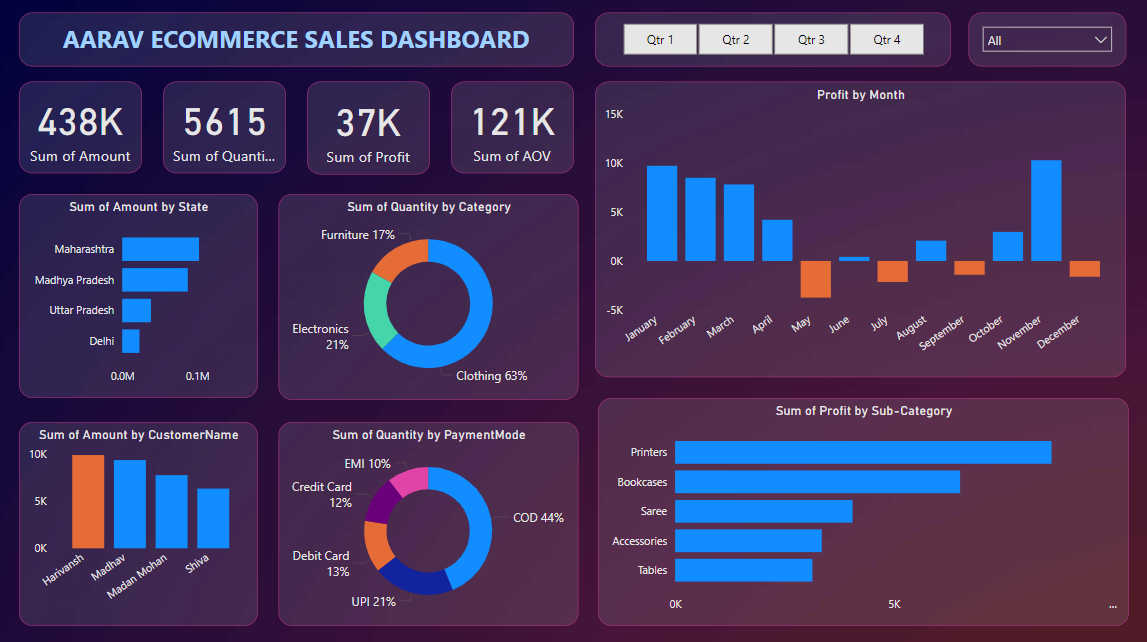

The page's visual inventory and layout, read from the dashboard file:
{"tool":"powerbi","page":{"name":"Page 1","canvas":[1280,720],"ordinal":0},"visuals":[{"type":"textbox","box":[23.3,15,616.7,60],"z":0},{"type":"columnChart","title":"Profit by Month","fields":{"Y":["Details.Profit"],"Category":["Orders.Order Date.Variation.Date Hierarchy.Month"]},"box":[663.3,91.7,590,328.3],"z":1000},{"type":"barChart","fields":{"Category":["Details.Sub-Category"],"Y":["Details.Profit"]},"box":[666.7,443.3,590,253.3],"z":2000},{"type":"donutChart","fields":{"Category":["Details.Category"],"Y":["Details.Quantity"]},"box":[311.7,216.7,333.3,228.3],"z":3000},{"type":"donutChart","fields":{"Y":["Details.Quantity"],"Category":["Details.PaymentMode"]},"box":[311.7,470,333.3,226.7],"z":4000},{"type":"card","fields":{"Values":["Details.Amount"]},"box":[23.3,91.7,136.7,101.7],"z":5000},{"type":"card","fields":{"Values":["Details.Profit"]},"box":[343.3,91.7,136.7,103.3],"z":6000},{"type":"card","fields":{"Values":["Details.Quantity"]},"box":[183.3,91.7,136.7,101.7],"z":7000},{"type":"card","fields":{"Values":["Details.AOV"]},"box":[503.3,91.7,136.7,101.7],"z":8000},{"type":"barChart","fields":{"Category":["Orders.State"],"Y":["Details.Amount"]},"box":[23.3,216.7,265,226.7],"z":9000},{"type":"columnChart","fields":{"Category":["Orders.CustomerName"],"Y":["Details.Amount"]},"box":[23.3,470,265,226.7],"z":10000},{"type":"slicer","fields":{"Values":["Orders.Order Date.Variation.Date Hierarchy.Quarter"]},"box":[663.3,15,395,60],"z":10001},{"type":"slicer","fields":{"Values":["Orders.State"]},"box":[1078.3,15,175,60],"z":10002}]}

Visuals, with their boxes in screenshot pixels (x1, y1, x2, y2), scaled from the page's 1280x720 canvas onto the 1147x642 screenshot:
textbox: rect(21, 13, 574, 67)
"Profit by Month" columnChart: rect(594, 82, 1123, 374)
barChart - Details.Sub-Category x Details.Profit: rect(597, 395, 1126, 621)
donutChart - Details.Category x Details.Quantity: rect(279, 193, 578, 397)
donutChart - Details.Quantity x Details.PaymentMode: rect(279, 419, 578, 621)
card - Details.Amount: rect(21, 82, 143, 172)
card - Details.Profit: rect(308, 82, 430, 174)
card - Details.Quantity: rect(164, 82, 287, 172)
card - Details.AOV: rect(451, 82, 574, 172)
barChart - Orders.State x Details.Amount: rect(21, 193, 258, 395)
columnChart - Orders.CustomerName x Details.Amount: rect(21, 419, 258, 621)
slicer - Orders.Order Date.Variation.Date Hierarchy.Quarter: rect(594, 13, 948, 67)
slicer - Orders.State: rect(966, 13, 1123, 67)
